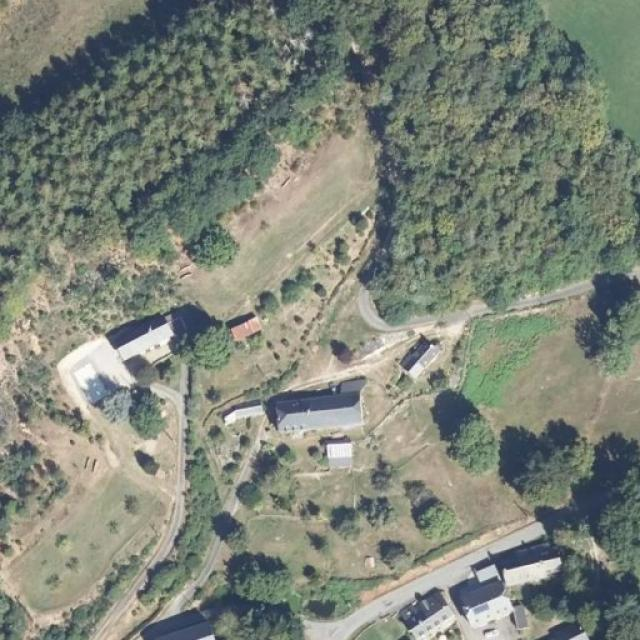ferme: (108, 304, 178, 382), (402, 336, 438, 374), (229, 312, 261, 338)
maison: (394, 548, 563, 640), (277, 381, 363, 434), (216, 398, 268, 425), (328, 442, 352, 461)
